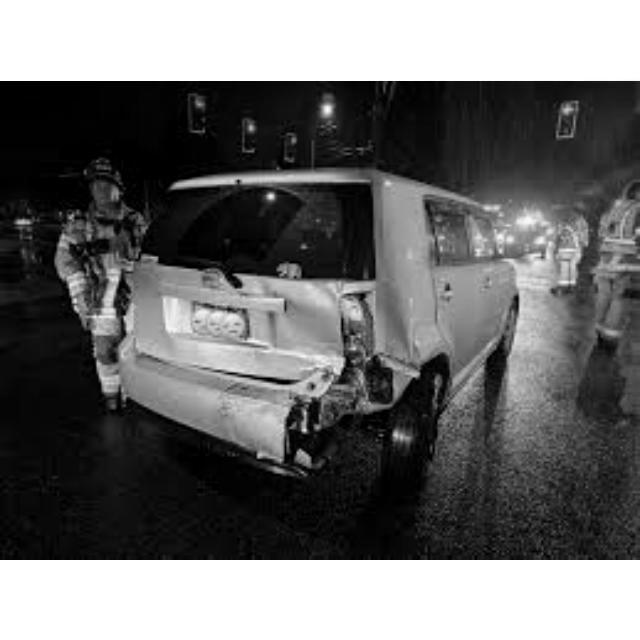Taillight-Damage: (340, 286, 388, 403)
boot-dent: (189, 268, 339, 385)
quaterpanel-dent: (375, 276, 437, 380)
rear-bumper-dent: (262, 382, 389, 482)
